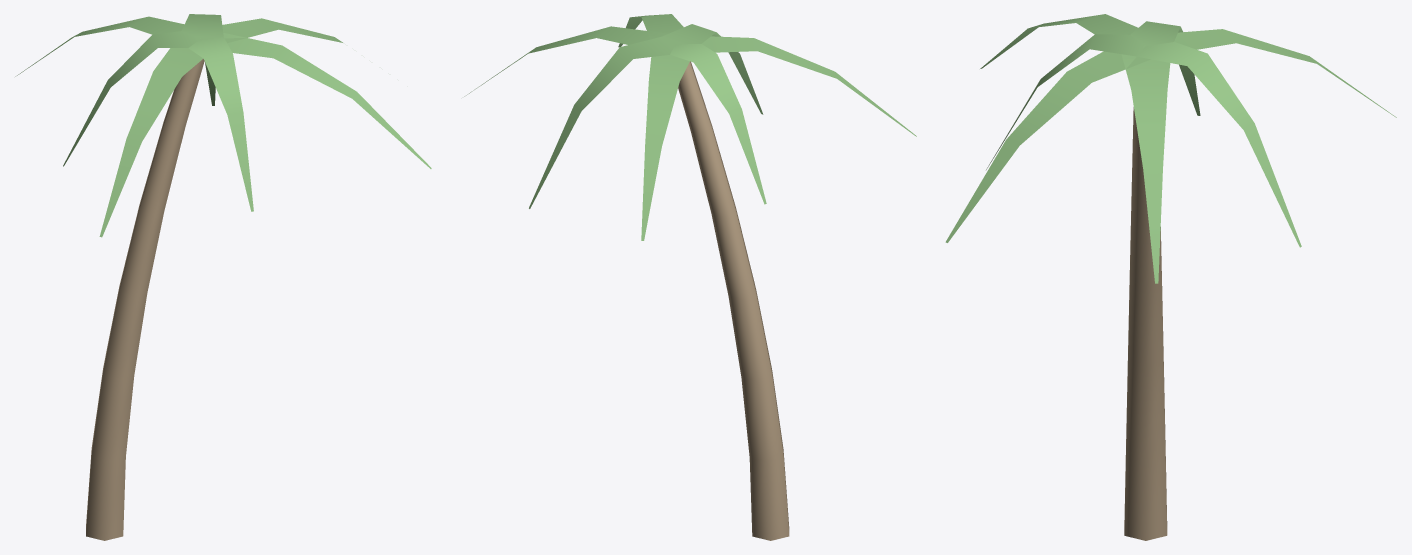
The model's file is palm_lod.glb.
3 views of the same model, side by side, from view 1: azimuth 30°, elevation 25°; view 2: azimuth 150°, elevation 25°; view 3: azimuth 270°, elevation 25° (orthographic). The views are drawn at different scales.
Parts seen in each view (by area): view 1: palm_lod; view 2: palm_lod; view 3: palm_lod.
Part boxes in pixels (x1,y1,x2,y2): palm_lod: (15, 14, 431, 540); palm_lod: (464, 14, 916, 540); palm_lod: (945, 14, 1396, 540).
Bounding box in the file's own units: 6.18 × 7.22 × 5.48.
